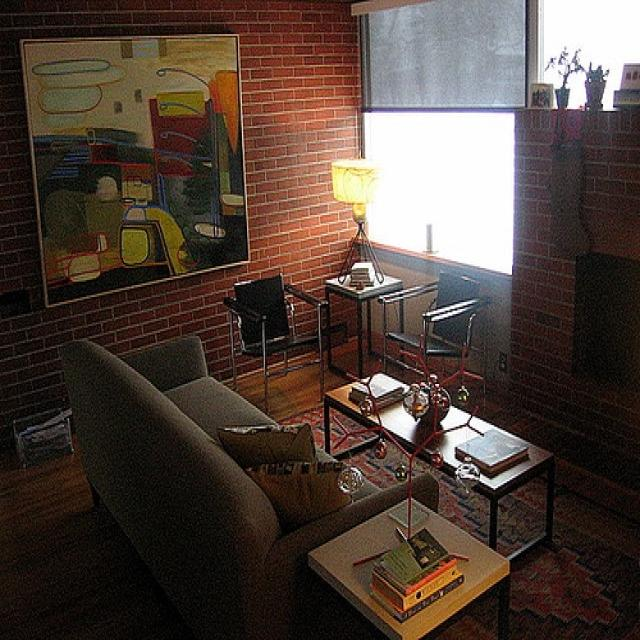chair: (379, 269, 490, 422), (224, 276, 329, 414)
pottedplant: (547, 47, 584, 110), (583, 66, 609, 108)
sofa: (60, 332, 440, 639)
